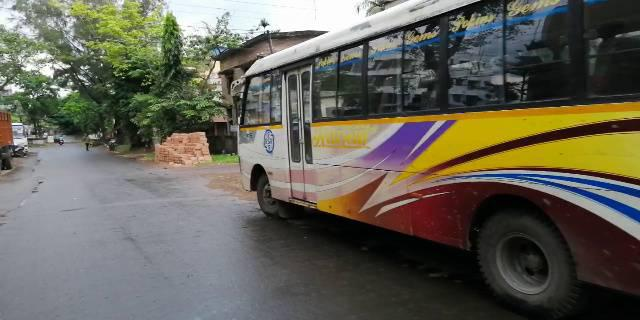Bus: (232, 13, 628, 234)
